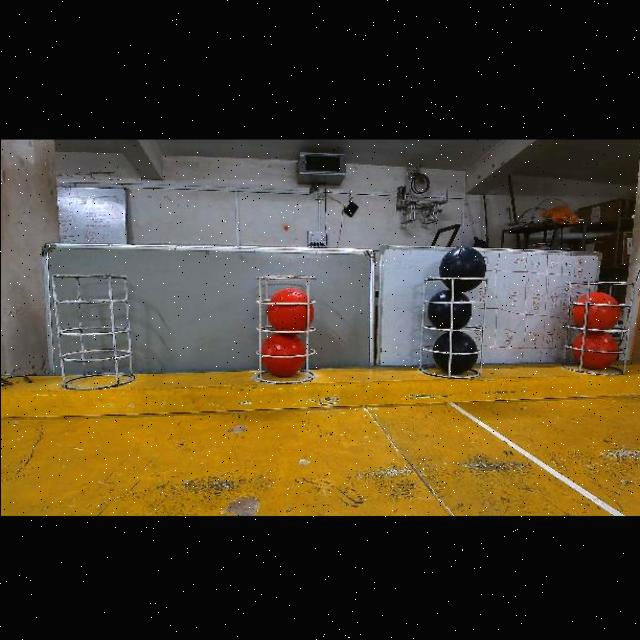P: (438, 245, 485, 291), (432, 328, 478, 373), (426, 288, 472, 328)
R: (265, 285, 313, 330), (260, 332, 304, 375), (571, 329, 618, 369), (571, 289, 619, 328)
S: (56, 270, 130, 386), (255, 272, 321, 386), (421, 275, 481, 381), (566, 273, 624, 369)
